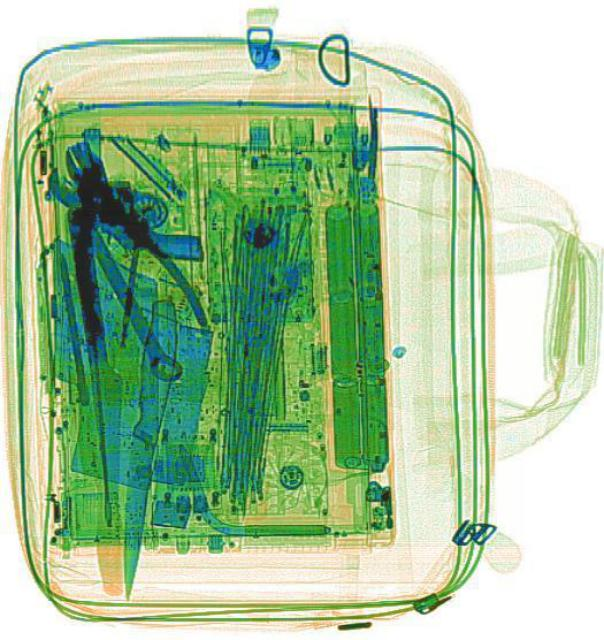Gun: (55, 112, 208, 296)
Knife: (107, 298, 182, 602), (65, 210, 134, 520)
Wrench: (38, 157, 185, 389)
